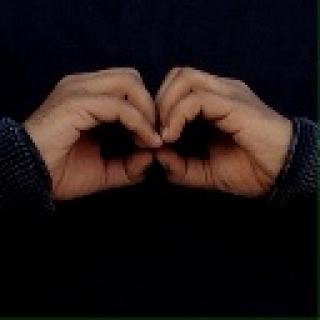B: (20, 65, 297, 211)
